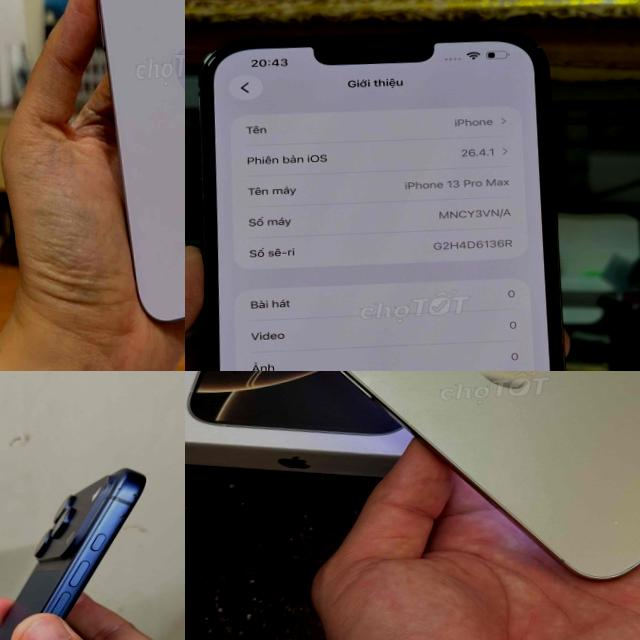gen_12_13: (185, 17, 586, 371)
gen_16: (341, 371, 640, 579)
gen_17: (78, 0, 185, 323), (0, 469, 145, 640)
